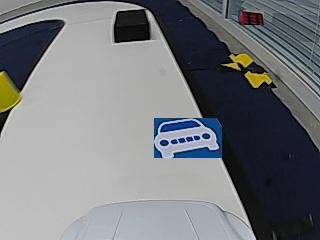block: (113, 9, 150, 43)
cone: (0, 72, 22, 113)
